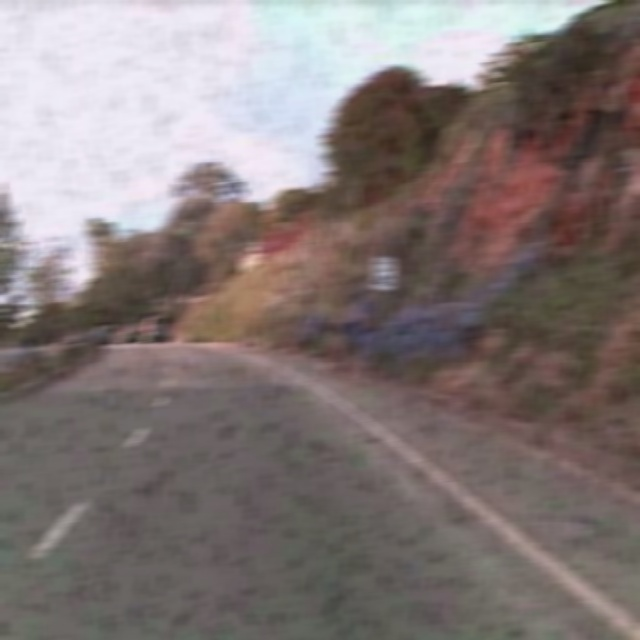speedLimit40: (371, 252, 394, 291)
